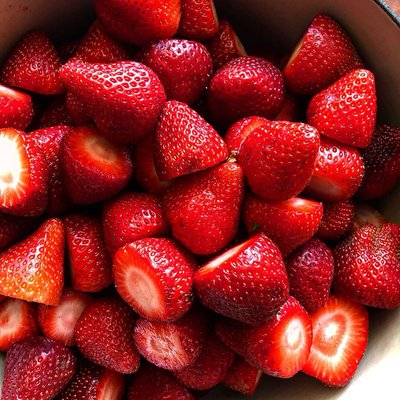sushi: (0, 1, 400, 398)
